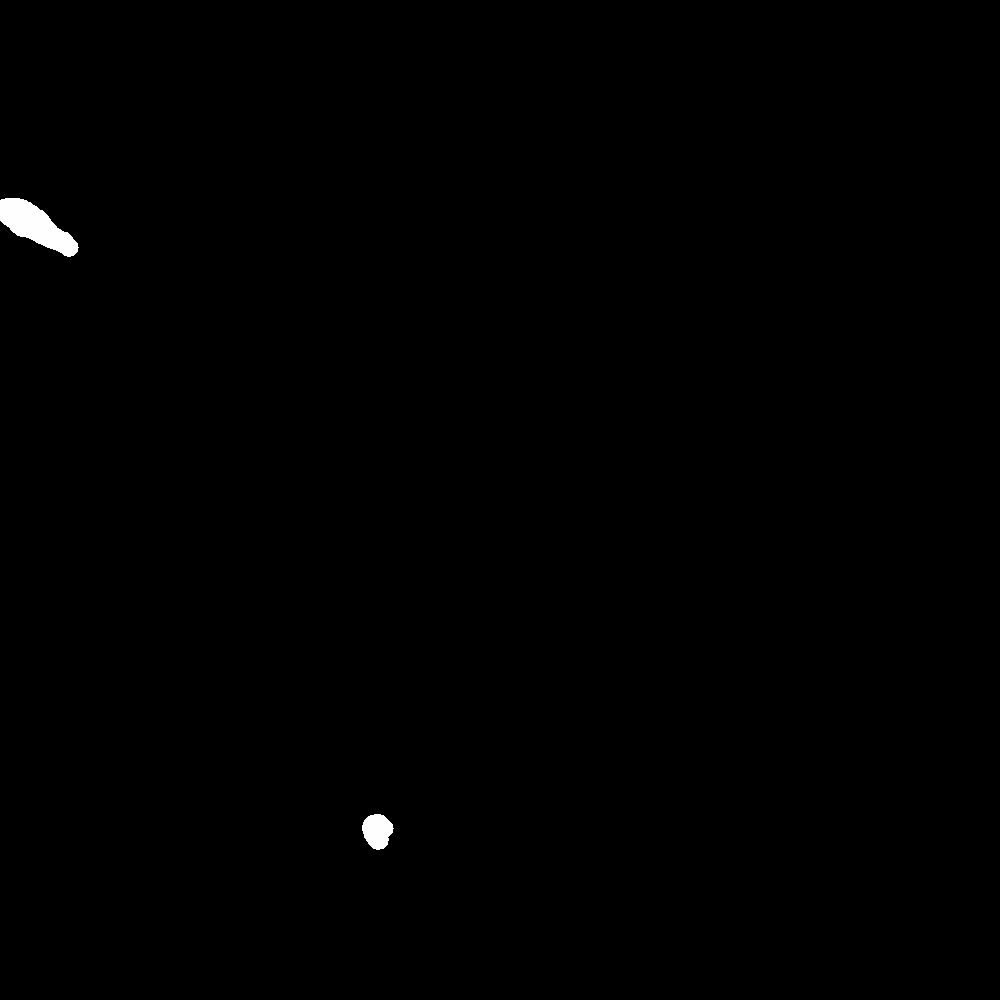illegal: (114, 253, 201, 313), (1, 199, 75, 258)
